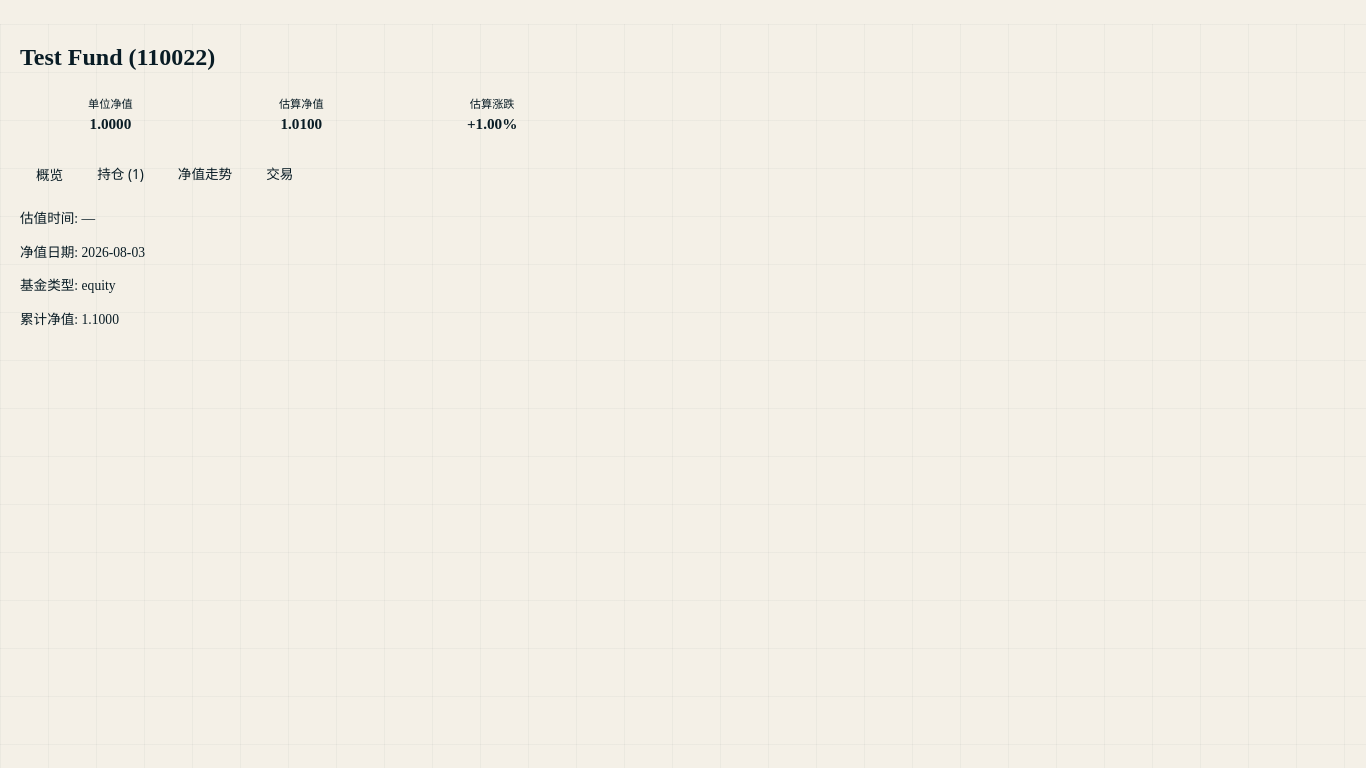
Test: SecuritiesWorkbenchPage › uses shared realtime quotes for fund holding prices
The width and height of the screenshot is (1366, 768).
Click the button "持仓 (1)": {"x": 121, "y": 174} [81, 157, 160, 191]
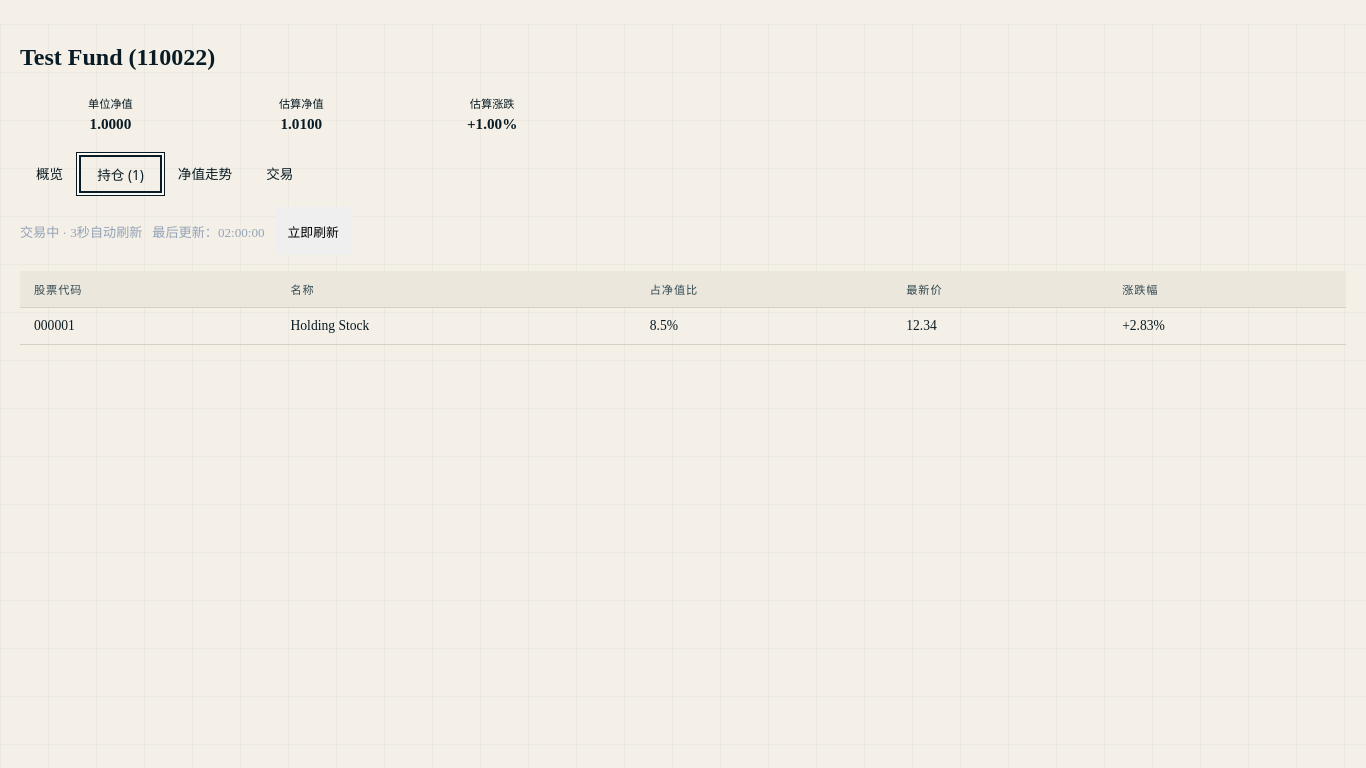
expect the text "12.34" is shown: met, box [892, 308, 1108, 344]
expect the text "+2.83%" is shown: met, box [1108, 308, 1346, 344]
